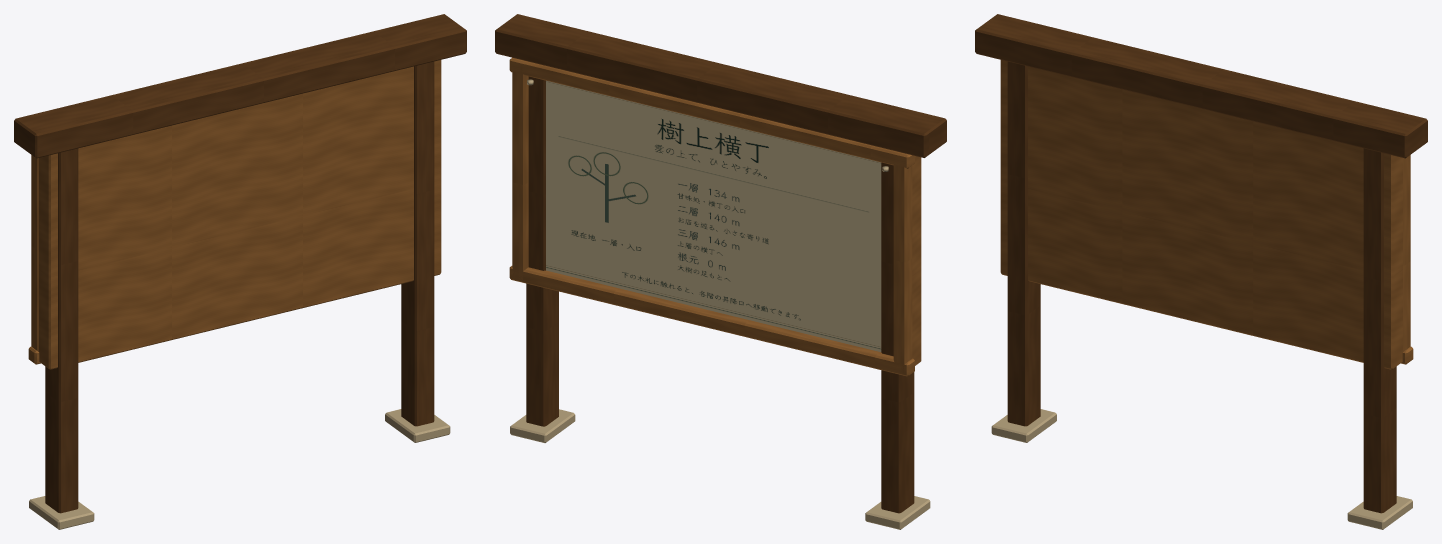
File: yokocho-entry-guideboard.glb
The picture shows the model from 3 angles, left to right: view 1: azimuth 30°, elevation 25°; view 2: azimuth 150°, elevation 25°; view 3: azimuth 330°, elevation 25°; orthographic projection.
Parts seen in each view (by area): view 1: EntryPlaza/Guideboard/Back__EntryHeartwood, EntryPlaza/Guideboard/Crown__EntryDarkTimber, EntryPlaza/Guideboard/Post__EntryDarkTimber, EntryPlaza/Guideboard/Foot__EntryPatinatedBrass, EntryPlaza/Guideboard/FrameStile__EntryHeartwood; view 2: EntryPlaza/Guideboard/Print__EntryGuidePrint, EntryPlaza/Guideboard/Crown__EntryDarkTimber, EntryPlaza/Guideboard/Post__EntryDarkTimber, EntryPlaza/Guideboard/FrameRail__EntryHeartwood, EntryPlaza/Guideboard/FrameStile__EntryHeartwood, EntryPlaza/Guideboard/Foot__EntryPatinatedBrass, EntryPlaza/Guideboard/Back__EntryHeartwood; view 3: EntryPlaza/Guideboard/Back__EntryHeartwood, EntryPlaza/Guideboard/Crown__EntryDarkTimber, EntryPlaza/Guideboard/Post__EntryDarkTimber, EntryPlaza/Guideboard/Foot__EntryPatinatedBrass, EntryPlaza/Guideboard/FrameStile__EntryHeartwood.
Part boxes in pixels (x1,y1,x2,y2): EntryPlaza/Guideboard/Back__EntryHeartwood: [39, 60, 441, 369]; EntryPlaza/Guideboard/Crown__EntryDarkTimber: [14, 14, 466, 158]; EntryPlaza/Guideboard/Post__EntryDarkTimber: [45, 61, 434, 513]; EntryPlaza/Guideboard/Foot__EntryPatinatedBrass: [29, 409, 450, 529]; EntryPlaza/Guideboard/FrameStile__EntryHeartwood: [31, 155, 38, 351]; EntryPlaza/Guideboard/Print__EntryGuidePrint: [546, 80, 881, 351]; EntryPlaza/Guideboard/Crown__EntryDarkTimber: [495, 14, 946, 157]; EntryPlaza/Guideboard/Post__EntryDarkTimber: [526, 76, 914, 513]; EntryPlaza/Guideboard/FrameRail__EntryHeartwood: [509, 57, 914, 376]; EntryPlaza/Guideboard/FrameStile__EntryHeartwood: [512, 65, 912, 373]; EntryPlaza/Guideboard/Foot__EntryPatinatedBrass: [510, 409, 930, 529]; EntryPlaza/Guideboard/Back__EntryHeartwood: [912, 156, 921, 365]; EntryPlaza/Guideboard/Back__EntryHeartwood: [1000, 60, 1402, 369]; EntryPlaza/Guideboard/Crown__EntryDarkTimber: [975, 14, 1427, 158]; EntryPlaza/Guideboard/Post__EntryDarkTimber: [1007, 61, 1396, 513]; EntryPlaza/Guideboard/Foot__EntryPatinatedBrass: [991, 409, 1412, 529]; EntryPlaza/Guideboard/FrameStile__EntryHeartwood: [1403, 155, 1410, 351].
Bounding box in the file's own units: 3.3 × 2.91 × 0.4.
4 materials, 3 textured.
